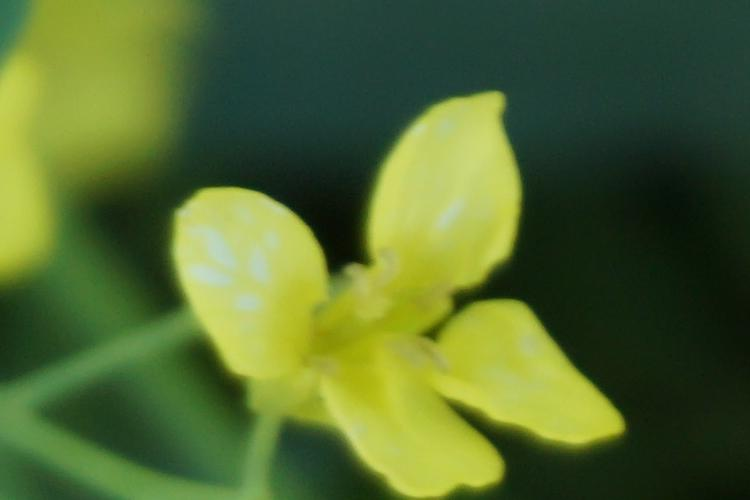yellow: (173, 80, 634, 487)
